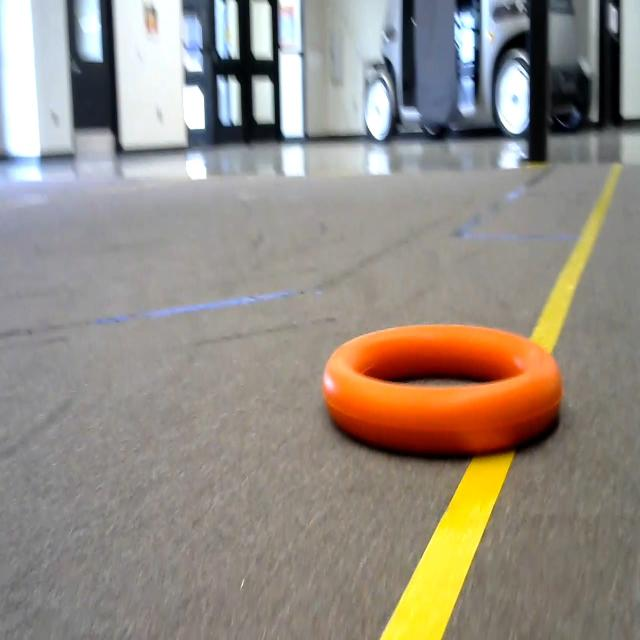note: (304, 293, 576, 490)
